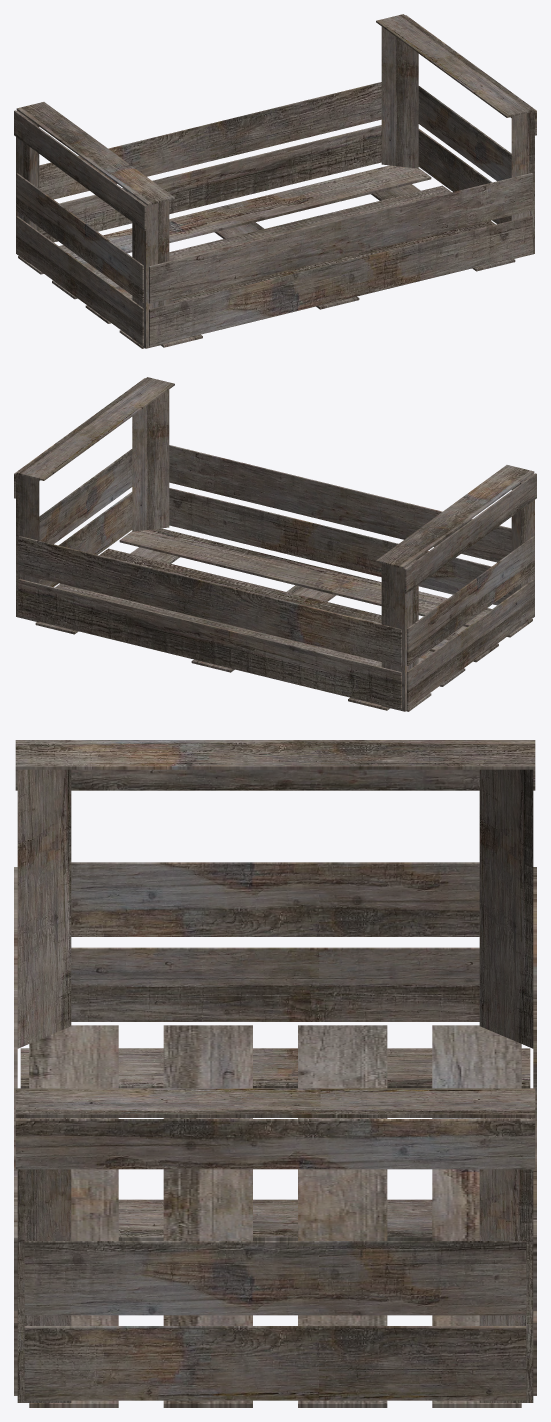
File: Crate_Open.glb
3 renders of one model, top to bottom at view 1: azimuth 30°, elevation 25°; view 2: azimuth 150°, elevation 25°; view 3: azimuth 270°, elevation 25°, orthographic. The views are drawn at different scales.
Parts seen in each view (by area): view 1: Crate-01; view 2: Crate-01; view 3: Crate-01.
Part boxes in pixels (box(x1,y1,x2,y2)): Crate-01: box(14, 14, 536, 348); Crate-01: box(14, 377, 536, 711); Crate-01: box(14, 740, 536, 1407).
Size of the model in its own units: 1.1 by 0.4 by 0.6418.
Materials: 1 (1 with a texture image).
